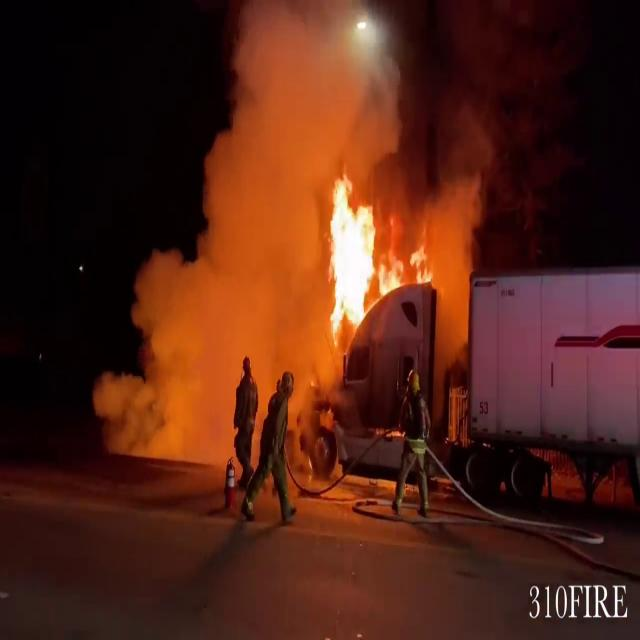Fire: (320, 175, 387, 338)
Smoke: (104, 1, 492, 422)
